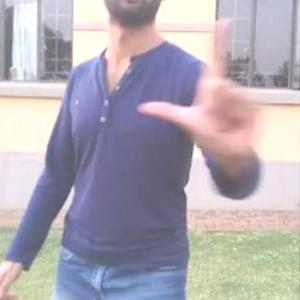land_hand: (132, 13, 265, 165)
